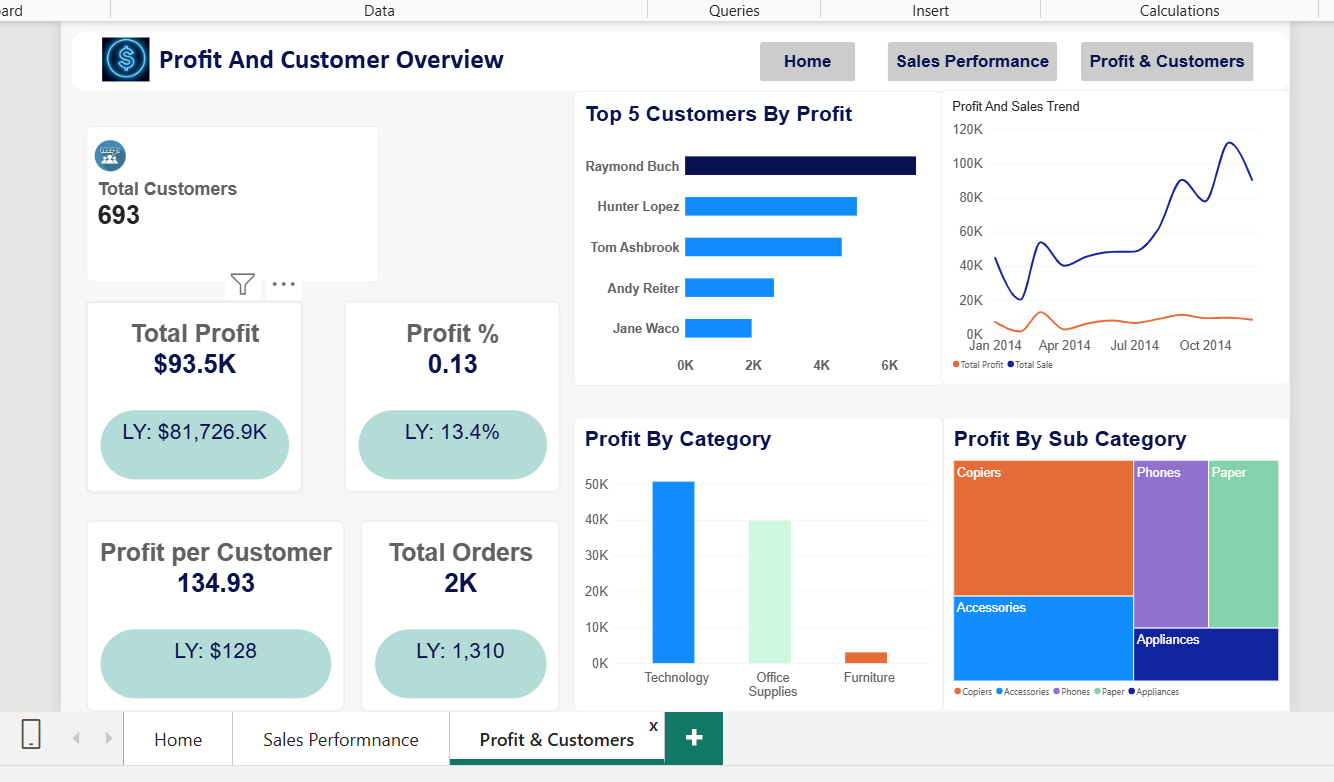

The page's visual inventory and layout, read from the dashboard file:
{"tool":"powerbi","page":{"name":"Profit & Customers","canvas":[1920,1080],"ordinal":2},"visuals":[{"type":"shape","box":[16.6,16.6,1904.2,92.4],"z":0},{"type":"textbox","box":[37.9,33.2,1845,75.8],"z":1000},{"type":"actionButton","box":[1091.9,33.2,149.2,61.6],"z":2000},{"type":"actionButton","box":[1594,33.2,270,61.6],"z":3000},{"type":"actionButton","box":[1290.8,33.2,265.3,61.6],"z":4000},{"type":"image","box":[61.6,26.1,80.5,68.7],"z":5000},{"type":"cardVisual","title":"Total Customers","fields":{"Data":["cleaned_sales_data.Total Customers"]},"box":[38.8,164.3,457.1,245],"z":6000},{"type":"image","box":[37.9,182.4,80.5,56.8],"z":7000},{"type":"cardVisual","fields":{"Data":["cleaned_sales_data.Total Profit"]},"box":[38.8,439.2,337.6,298.8],"z":8000},{"type":"cardVisual","fields":{"Data":["cleaned_sales_data.Profit %"]},"box":[442.2,439.2,337.6,298.8],"z":9000},{"type":"cardVisual","fields":{"Data":["cleaned_sales_data.Profit per Customer"]},"box":[38.8,779.8,403.3,298.8],"z":10000},{"type":"cardVisual","fields":{"Data":["cleaned_sales_data.Total Orders"]},"box":[469.1,779.8,310.7,298.8],"z":11000},{"type":"clusteredBarChart","title":"Top 5 Customers By Profit","fields":{"Category":["cleaned_sales_data.Customer Name"],"Y":["cleaned_sales_data.Total Profit"]},"box":[800.7,110.5,576.6,460.1],"z":11001},{"type":"clusteredColumnChart","title":"Profit By Category","fields":{"Category":["cleaned_sales_data.Category"],"Y":["cleaned_sales_data.Total Profit"]},"box":[800.7,618.4,576.6,460.1],"z":11002},{"type":"lineChart","title":"Profit And Sales Trend","fields":{"Category":["cleaned_sales_data.Month Start"],"Y":["cleaned_sales_data.Total Profit","cleaned_sales_data.Total Sale"]},"box":[1377.3,107.6,543.7,460.1],"z":11003},{"type":"treemap","title":"Profit By Sub Category","fields":{"Group":["cleaned_sales_data.Sub-Category"],"Values":["cleaned_sales_data.Total Profit"]},"box":[1378,618,542,460],"z":11004}]}

Visuals, with their boxes on the page's 1920x1080 design canvas (x1, y1, x2, y2). These are canvas units, not pixel positions in the 1334x782 screenshot, which may show the page scaled, cropped or inside an application window:
shape: bbox(17, 17, 1921, 109)
textbox: bbox(38, 33, 1883, 109)
actionButton: bbox(1092, 33, 1241, 95)
actionButton: bbox(1594, 33, 1864, 95)
actionButton: bbox(1291, 33, 1556, 95)
image: bbox(62, 26, 142, 95)
"Total Customers" cardVisual: bbox(39, 164, 496, 409)
image: bbox(38, 182, 118, 239)
cardVisual - cleaned_sales_data.Total Profit: bbox(39, 439, 376, 738)
cardVisual - cleaned_sales_data.Profit %: bbox(442, 439, 780, 738)
cardVisual - cleaned_sales_data.Profit per Customer: bbox(39, 780, 442, 1079)
cardVisual - cleaned_sales_data.Total Orders: bbox(469, 780, 780, 1079)
"Top 5 Customers By Profit" clusteredBarChart: bbox(801, 110, 1377, 571)
"Profit By Category" clusteredColumnChart: bbox(801, 618, 1377, 1078)
"Profit And Sales Trend" lineChart: bbox(1377, 108, 1921, 568)
"Profit By Sub Category" treemap: bbox(1378, 618, 1920, 1078)
